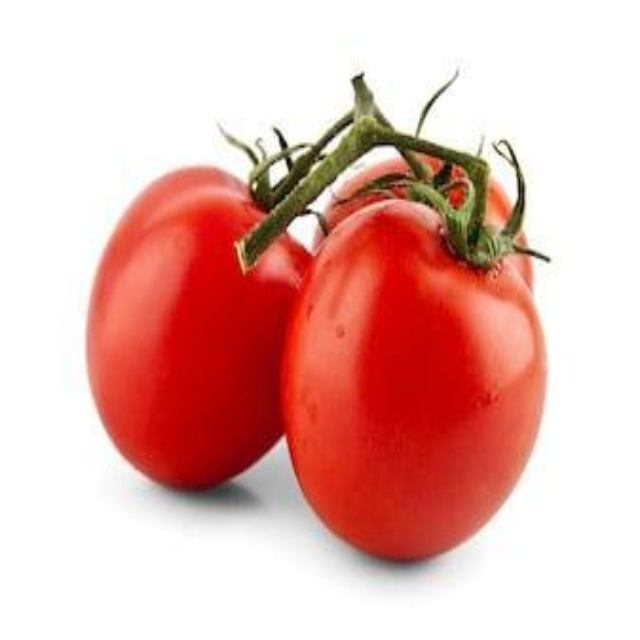tomato: (289, 215, 544, 564), (84, 163, 314, 489)
